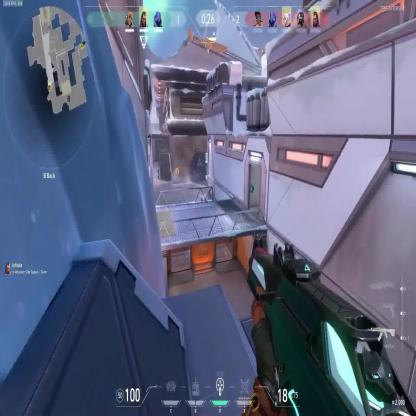enemy: (201, 197, 203, 206)
enemy_head: (201, 197, 203, 200)
